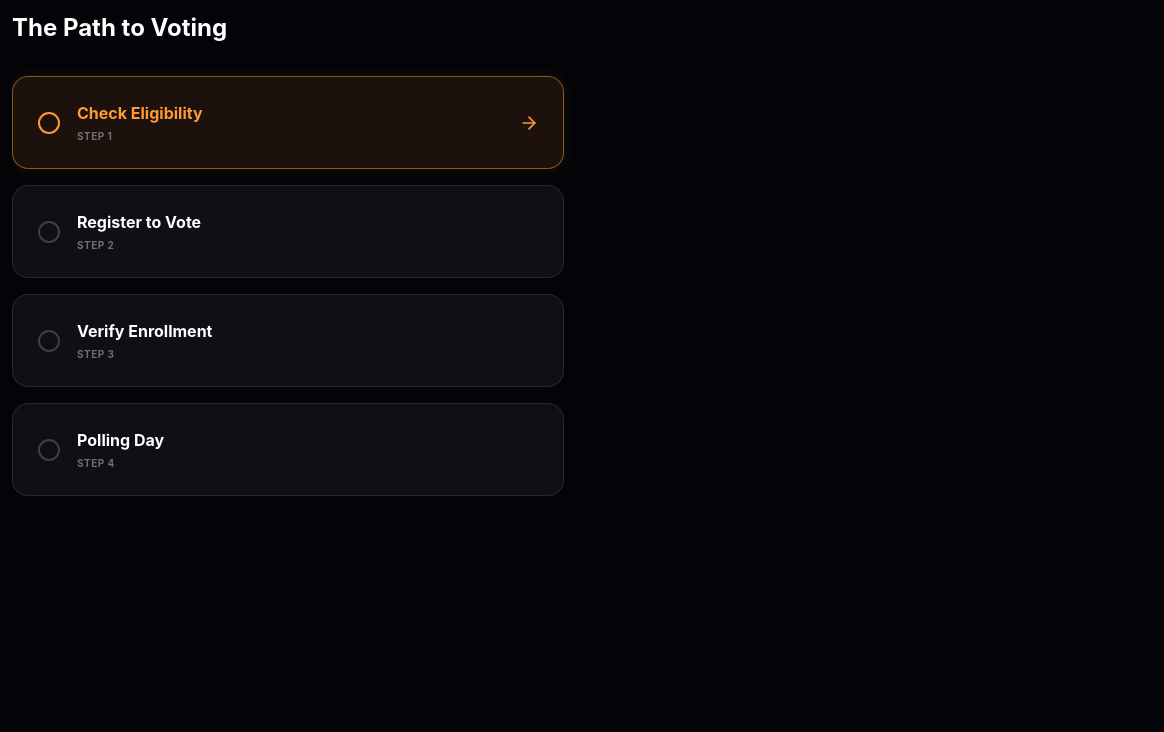
Timeline Component › changes active step on click
Click the button "Check Eligibility Step 1" at [140, 113], box [12, 76, 564, 169]
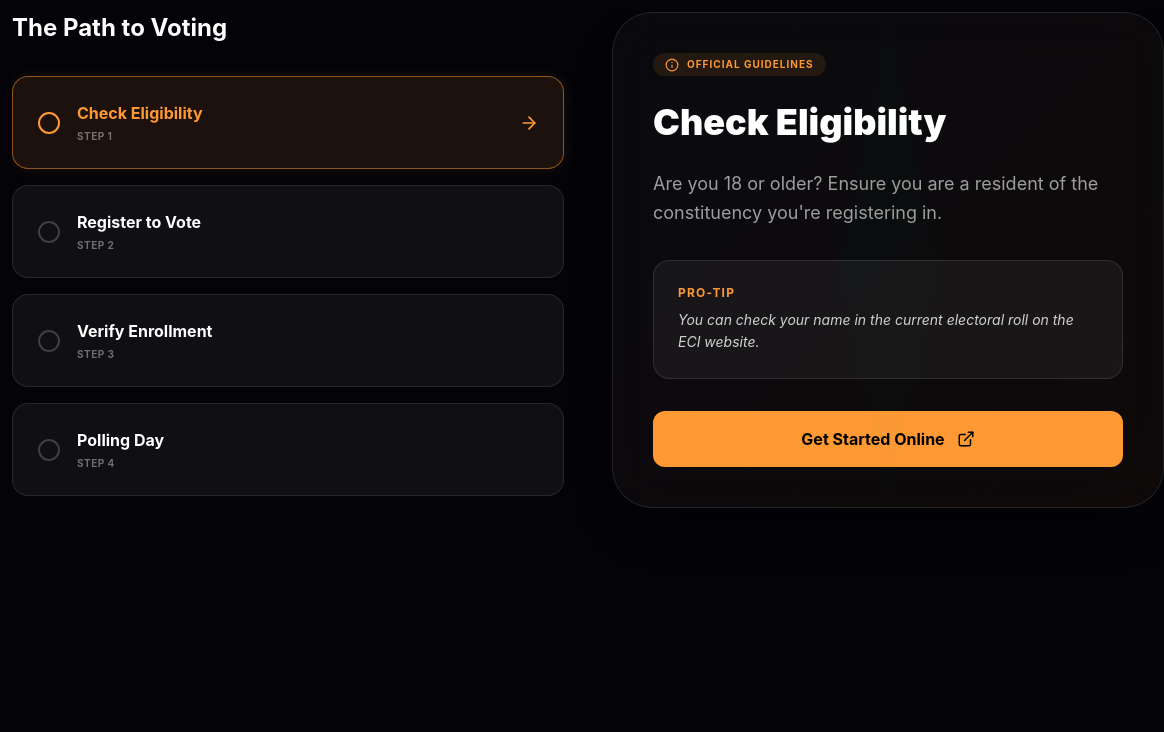
Expected: the text "Are you 18 or older?" is shown, [653, 173, 1098, 223]
